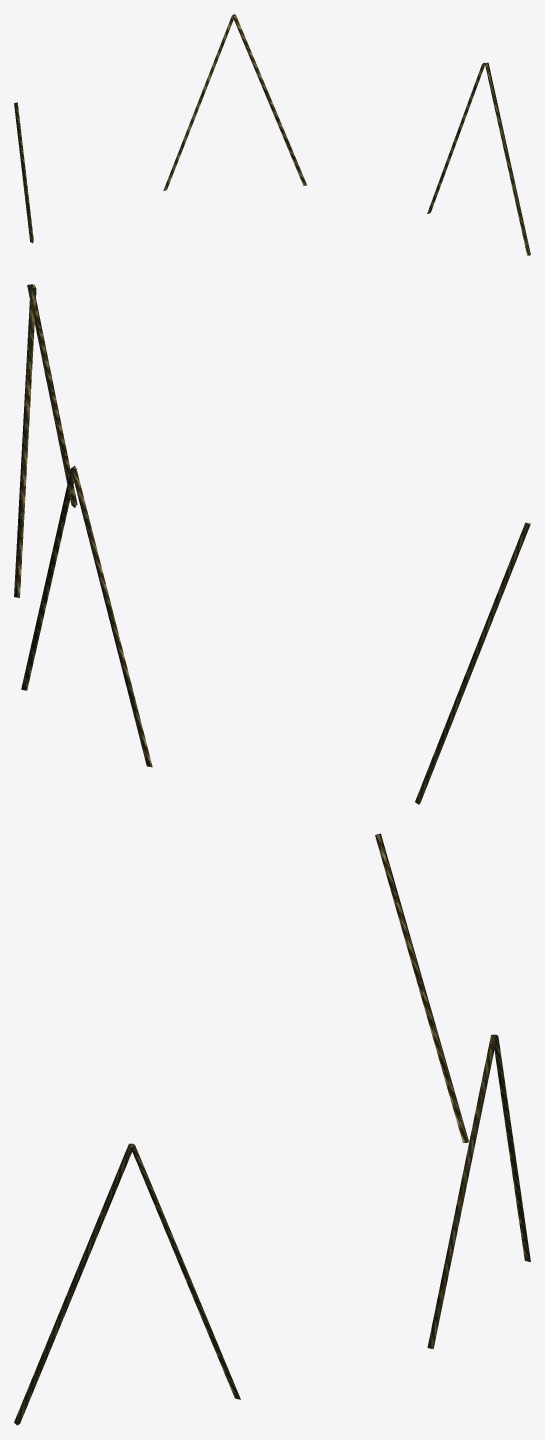
Rendered from OVERHILL_A_01_ROPE_11.fbx.
3 views of the same model, one above another, from view 1: azimuth 30°, elevation 25°; view 2: azimuth 150°, elevation 25°; view 3: azimuth 270°, elevation 25° (orthographic). The views are drawn at different scales.
Parts seen in each view (by area): view 1: OVERHILL_A_01_ROPE_11; view 2: OVERHILL_A_01_ROPE_11; view 3: OVERHILL_A_01_ROPE_11.
Part boxes in pixels (<box>): OVERHILL_A_01_ROPE_11: <box>14,14,530,255</box>; OVERHILL_A_01_ROPE_11: <box>14,284,530,804</box>; OVERHILL_A_01_ROPE_11: <box>14,833,530,1425</box>.
Bounding box in the file's own units: 53558 × 21520 × 36602.
Materials: 1 (1 with a texture image).
